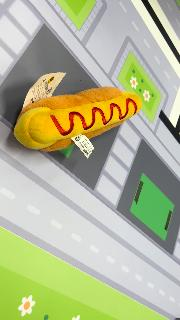hotdog: (13, 86, 143, 152)
